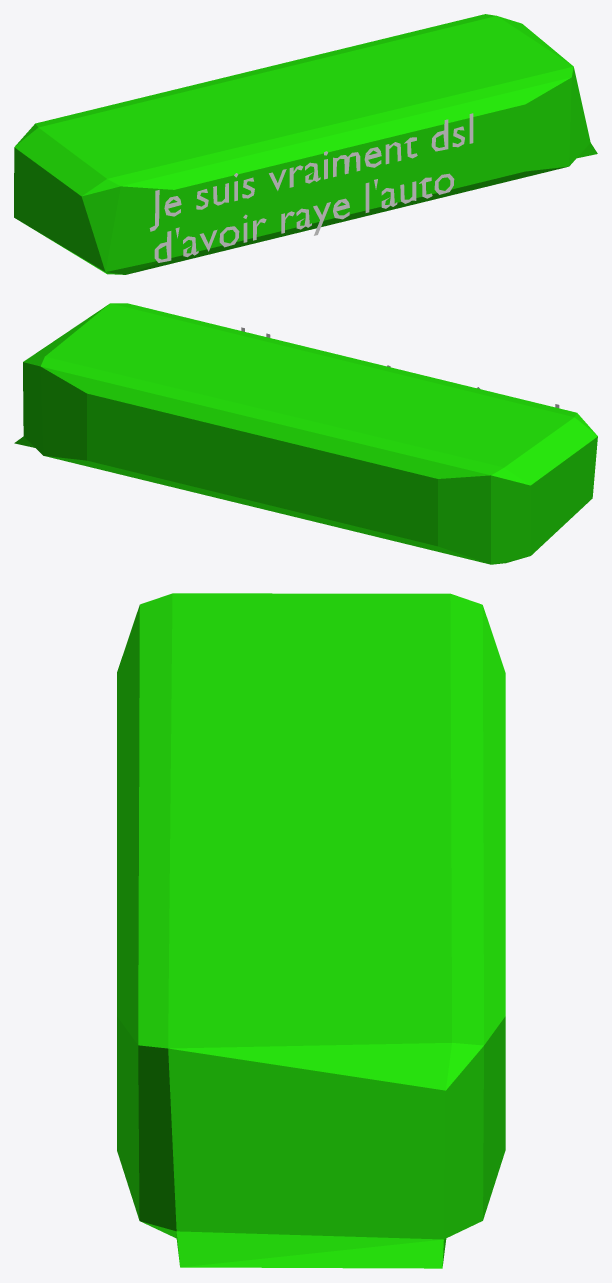
The model's file is message5.fbx.
The picture shows the model from 3 angles, top to bottom: view 1: azimuth 30°, elevation 25°; view 2: azimuth 150°, elevation 25°; view 3: azimuth 270°, elevation 25°; orthographic projection. The views are drawn at different scales.
Visible parts, largest first — view 1: Cube.005; view 2: Cube.005; view 3: Cube.005.
Part boxes in pixels (x1=…): Cube.005: x1=14, y1=14, x2=597, y2=274; Cube.005: x1=14, y1=303, x2=597, y2=564; Cube.005: x1=117, y1=593, x2=505, y2=1268.
Size of the model in its own units: 274 by 49.2 by 91.49.
